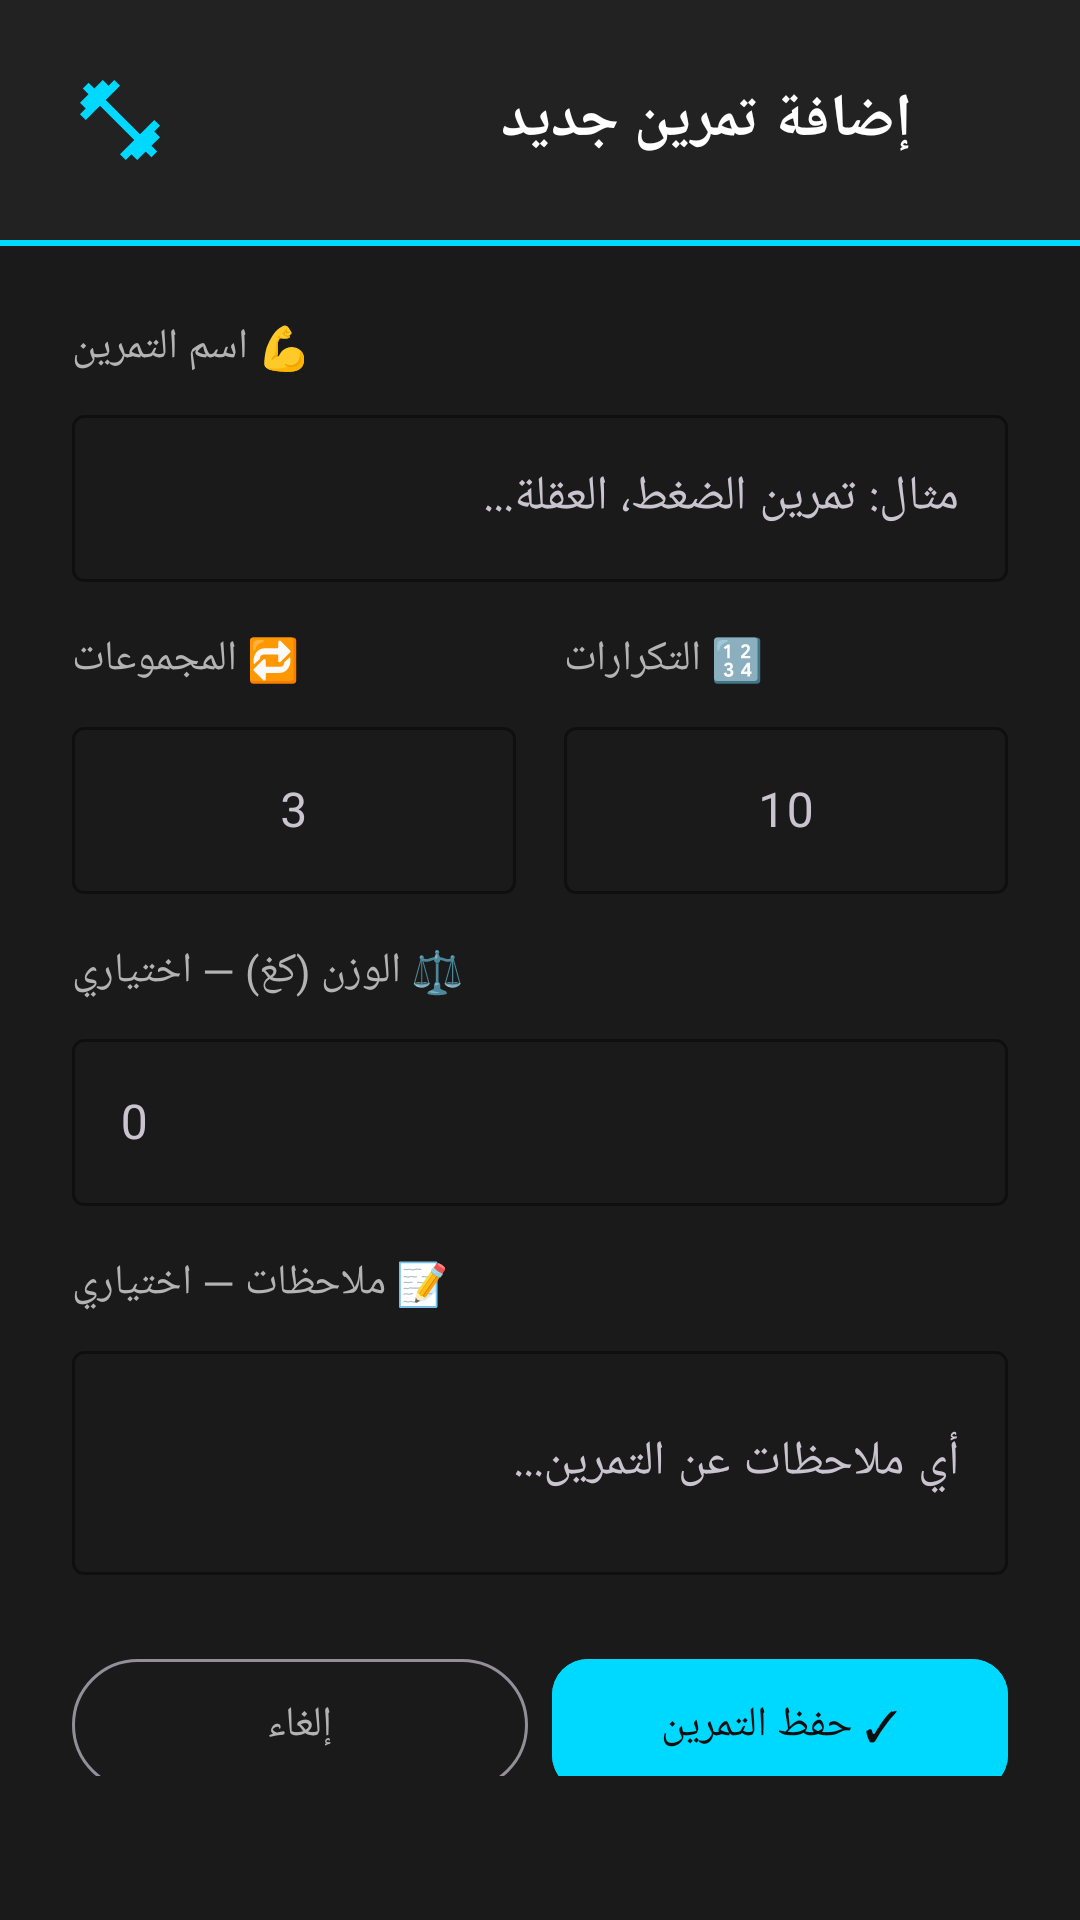

Icons on this 1080px×1920px Android screen, each with the point to tap as [x,y]:
workout: [120,120]
